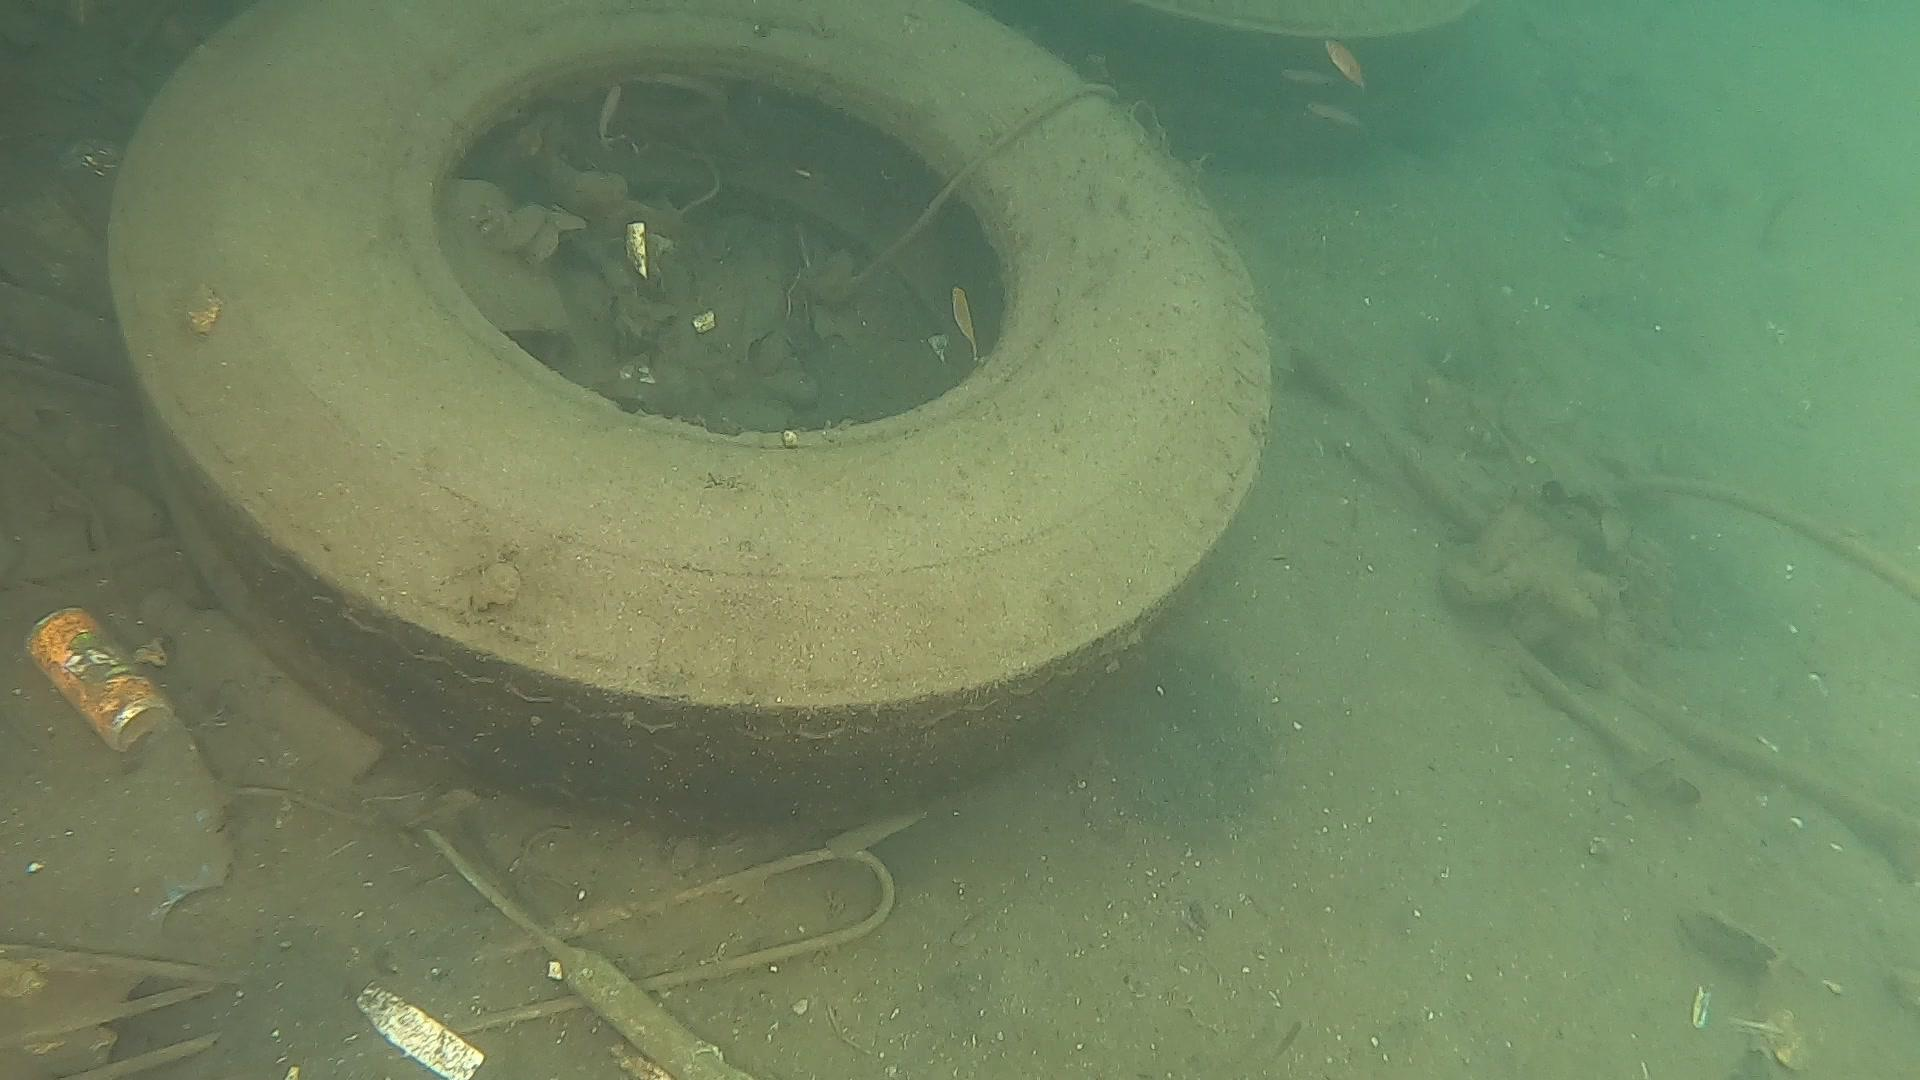tire: (103, 0, 1275, 806)
